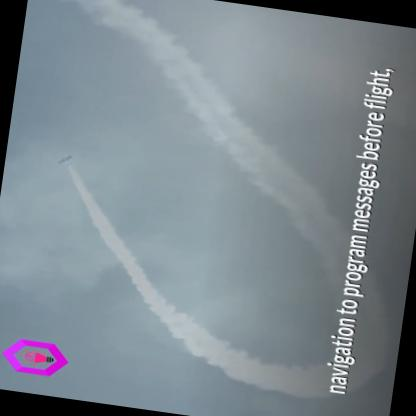plane: (50, 145, 83, 170)
